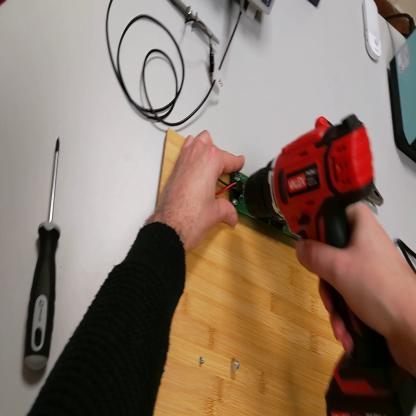electric screwdriver: (243, 113, 416, 415)
hand: (298, 201, 413, 362), (155, 130, 240, 254)
high voltage board: (218, 172, 299, 238)
oscilloscope: (234, 1, 275, 18)
oscilloscope probe tip: (172, 4, 223, 47)
screwdriver-: (22, 132, 63, 376)
welder station: (391, 26, 416, 160)
working area: (156, 127, 342, 415)
